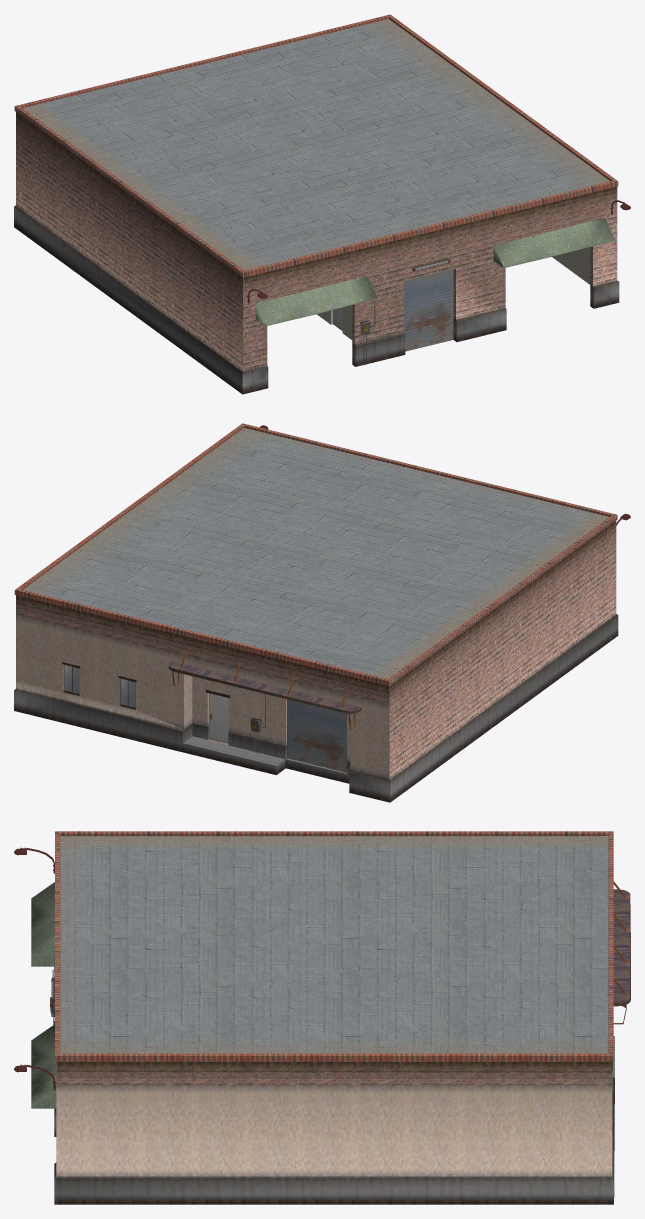
The model's file is warehouse.glb.
3 views of the same model, one above another, from view 1: azimuth 30°, elevation 25°; view 2: azimuth 150°, elevation 25°; view 3: azimuth 270°, elevation 25° (orthographic). The views are drawn at different scales.
Visible parts, largest first — view 1: roof.001_warehouseBuilding_0, covering_ceiling&covering_0, gate_gatesDoor&windows_0; view 2: roof.001_warehouseBuilding_0, gate_gatesDoor&windows_0, covering_ceiling&covering_0; view 3: roof.001_warehouseBuilding_0, covering_ceiling&covering_0.
Part boxes in pixels (x1,y1,x2,y2): roof.001_warehouseBuilding_0: (14,14,619,394); covering_ceiling&covering_0: (255,218,615,325); gate_gatesDoor&windows_0: (333,269,453,351); roof.001_warehouseBuilding_0: (14,423,618,802); gate_gatesDoor&windows_0: (64,664,346,772); covering_ceiling&covering_0: (62,649,361,729); roof.001_warehouseBuilding_0: (54,831,614,1204); covering_ceiling&covering_0: (31,881,630,1137).
Bounding box in the file's own units: 24.41 × 7.5 × 28.27.
6 materials, 6 textured.
